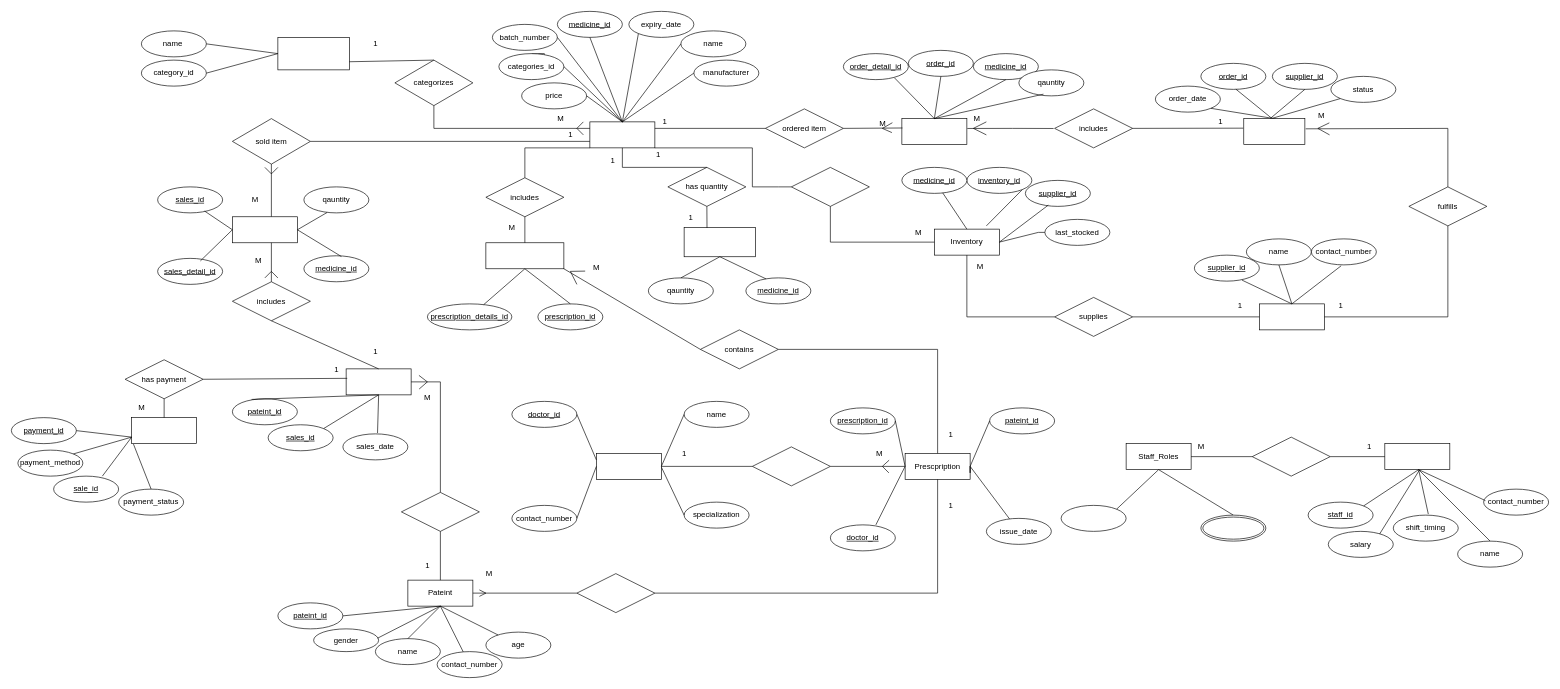
Image size: 1560x689. Some labels were removed from this diagram. The centre of each missing label's shape, as x and y in pixels:
assigned to: (x=1291, y=456)
Category: (x=313, y=53)
Doctor: (x=628, y=466)
has prescription: (x=615, y=593)
has stock entry: (x=830, y=186)
Medicine: (x=622, y=134)
Medicine_Qauntity: (x=719, y=242)
Order_Details: (x=934, y=131)
Orders: (x=1274, y=131)
Payment: (x=164, y=430)
prescribes: (x=791, y=466)
Prescription_details: (x=524, y=255)
purchased by: (x=440, y=511)
role: (x=1233, y=527)
Sales: (x=378, y=381)
Sales_Details: (x=264, y=229)
Staff: (x=1417, y=456)
staff_role_id: (x=1093, y=518)
Supplier: (x=1291, y=316)
